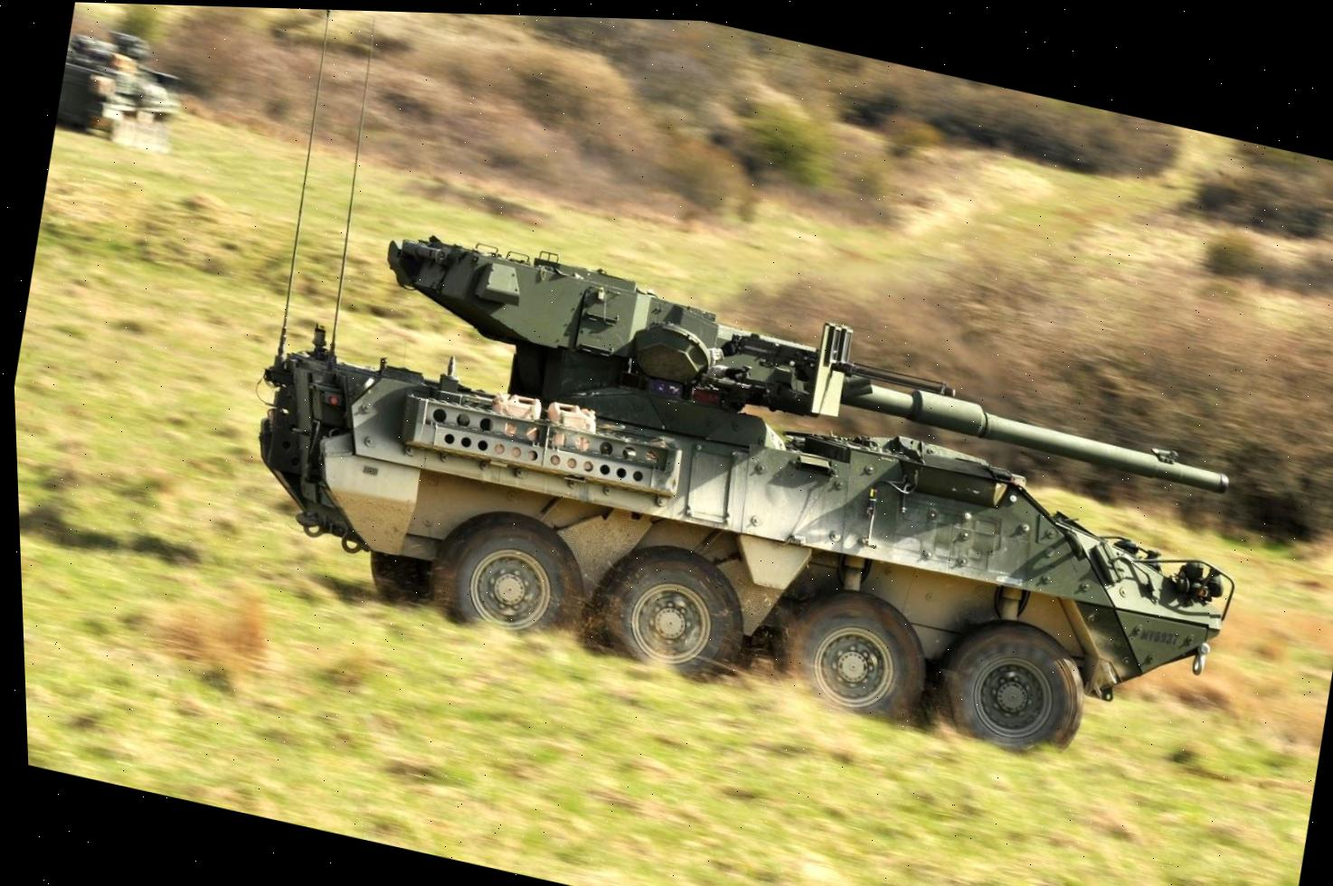tank: (212, 189, 1278, 797), (49, 15, 195, 155)
